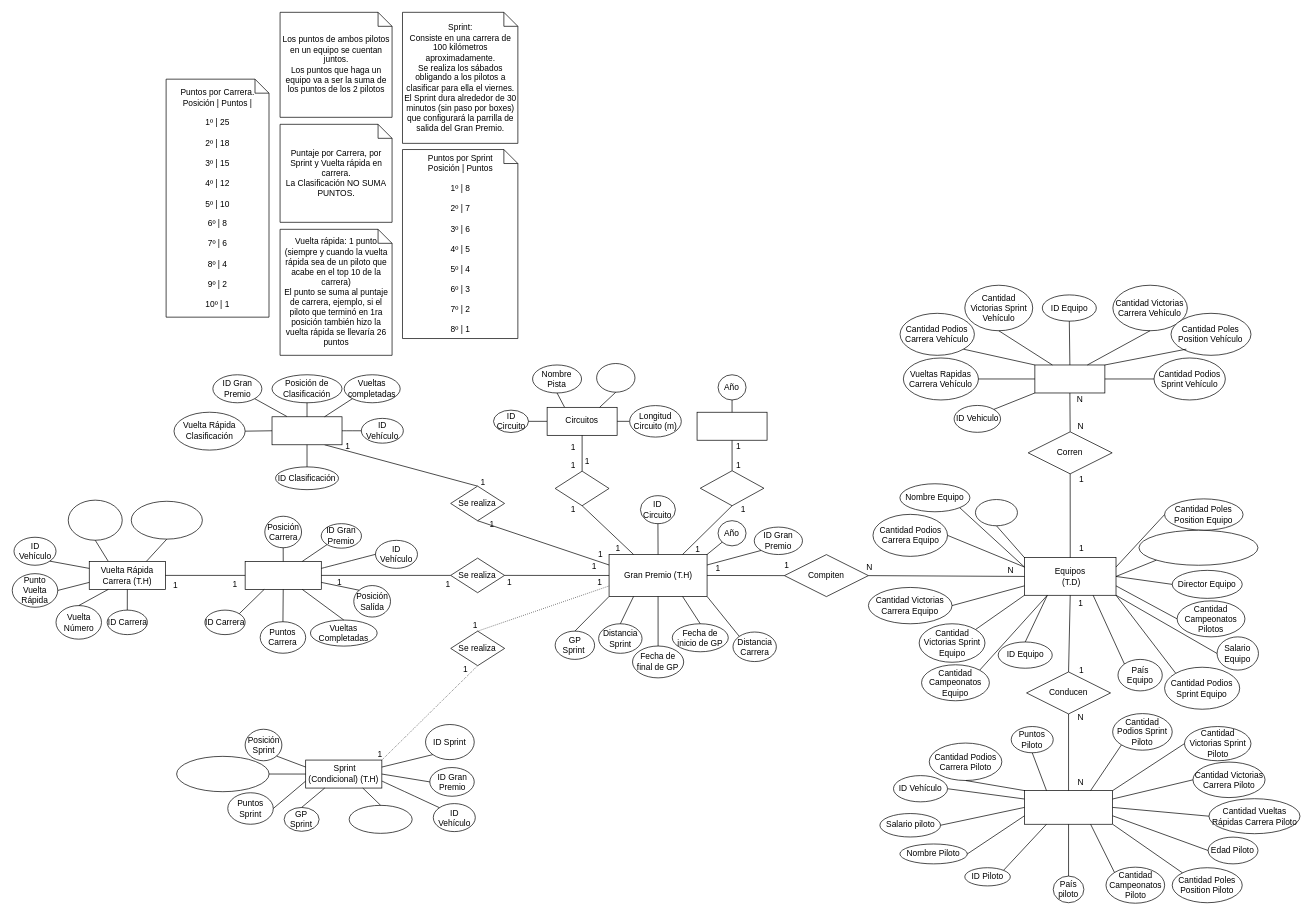
This 1313x916 diagram has some shape labels left out. The shapes that lost their labels are listed below. From the top down, each one's centre as x and y in pixels, then its label:
At (x=615, y=377): "País Circuito".
At (x=1069, y=378): "Vehículos".
At (x=306, y=430): "Clasificación (T.H)".
At (x=731, y=426): "Temporadas".
At (x=581, y=488): "Se utilizan".
At (x=732, y=488): "Se dividen en".
At (x=95, y=519): "ID Vuelta Rápida Carrera".
At (x=166, y=520): "Vuelta Rápida Carrera".
At (x=996, y=512): "Puntos Equipo".
At (x=1198, y=547): "Cantidad Vueltas Rápidas Carrera Equipo".
At (x=282, y=575): "Carrera (T.H)".
At (x=222, y=774): "Vueltas Completadas Sprint".
At (x=380, y=819): "Posición de Largada".
At (x=1068, y=807): "Pilotos (T.D)".
